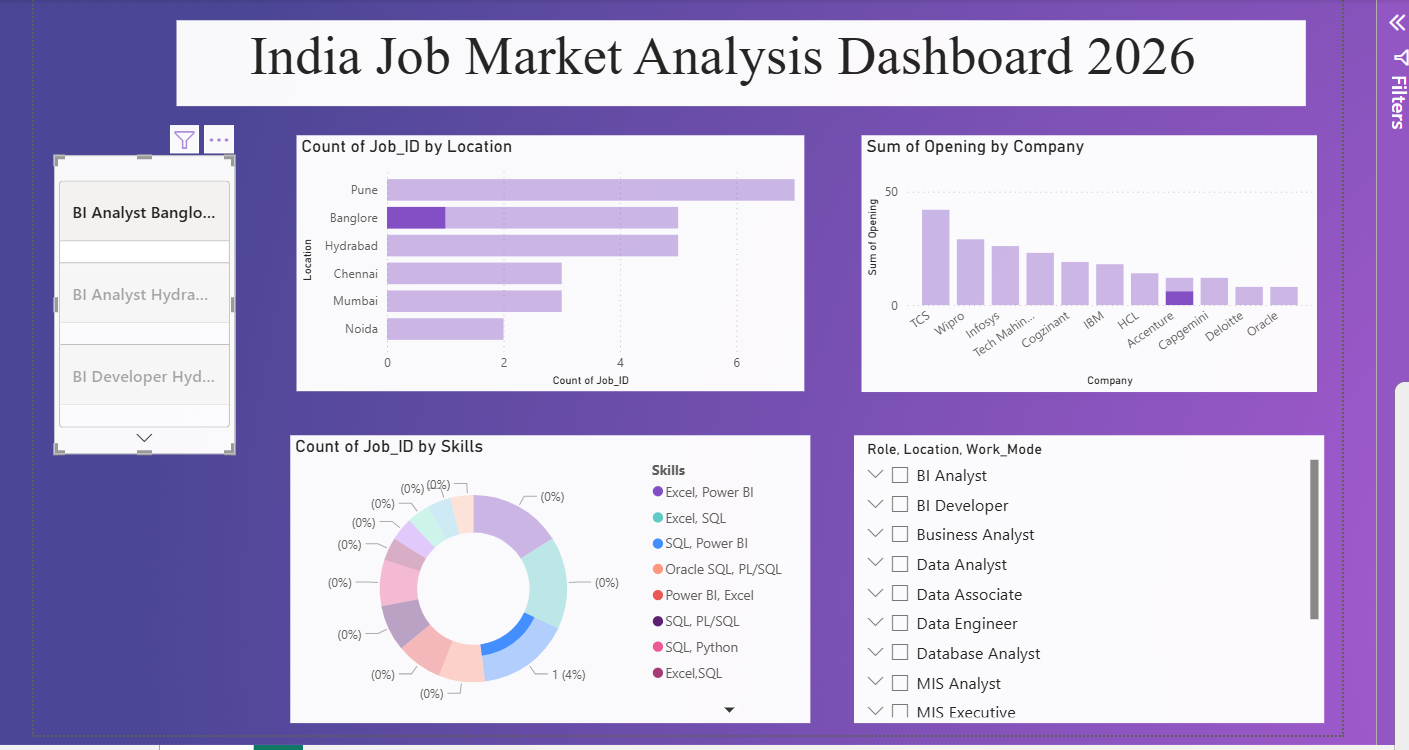

The page's visual inventory and layout, read from the dashboard file:
{"tool":"powerbi","page":{"name":"Page 1","canvas":[1280,720],"ordinal":0},"visuals":[{"type":"cardVisual","fields":{"Data":["Sum(Sheet1.Salary_LPA)","Sum(Sheet1.Opening)","CountNonNull(Sheet1.Job_ID)","Sheet1.Average Salary"],"Rows":["Sheet1.Role","Sheet1.Location","Sheet1.Skills","Sheet1.Role","Sheet1.Experience","Sheet1.Company","Sheet1.Work_Mode"]},"box":[0,237.2,212.8,292.3],"z":0},{"type":"clusteredBarChart","fields":{"Category":["Sheet1.Location"],"Y":["CountNonNull(Sheet1.Job_ID)"]},"box":[256.8,133.3,496.5,250.7],"z":1000},{"type":"donutChart","fields":{"Category":["Sheet1.Skills"],"Y":["CountNonNull(Sheet1.Job_ID)"]},"box":[250.7,426.8,508.7,281.3],"z":2000},{"type":"columnChart","fields":{"Category":["Sheet1.Company"],"Y":["Sum(Sheet1.Opening)"]},"box":[809.6,133.1,446,251.1],"z":3000},{"type":"slicer","fields":{"Values":["Sheet1.Company","Sheet1.Experience","Sheet1.Job_ID","Sheet1.Location","Sheet1.Opening","Sheet1.Role","Sheet1.Salary_LPA","Sheet1.Skills","Sheet1.Work_Mode"]},"box":[802.2,426.8,459.8,281.3],"z":4000},{"type":"textbox","box":[140,20.6,1104.6,83.7],"z":5000}]}

Visuals, with their boxes in screenshot pixels (x1, y1, x2, y2):
cardVisual - Sum(Sheet1.Salary_LPA) x Sum(Sheet1.Opening): BBox(29, 240, 248, 539)
clusteredBarChart - Sheet1.Location x CountNonNull(Sheet1.Job_ID): BBox(293, 133, 802, 390)
donutChart - Sheet1.Skills x CountNonNull(Sheet1.Job_ID): BBox(286, 434, 808, 722)
columnChart - Sheet1.Company x Sum(Sheet1.Opening): BBox(859, 133, 1317, 390)
slicer - Sheet1.Company x Sheet1.Experience: BBox(852, 434, 1323, 722)
textbox: BBox(173, 17, 1305, 103)
